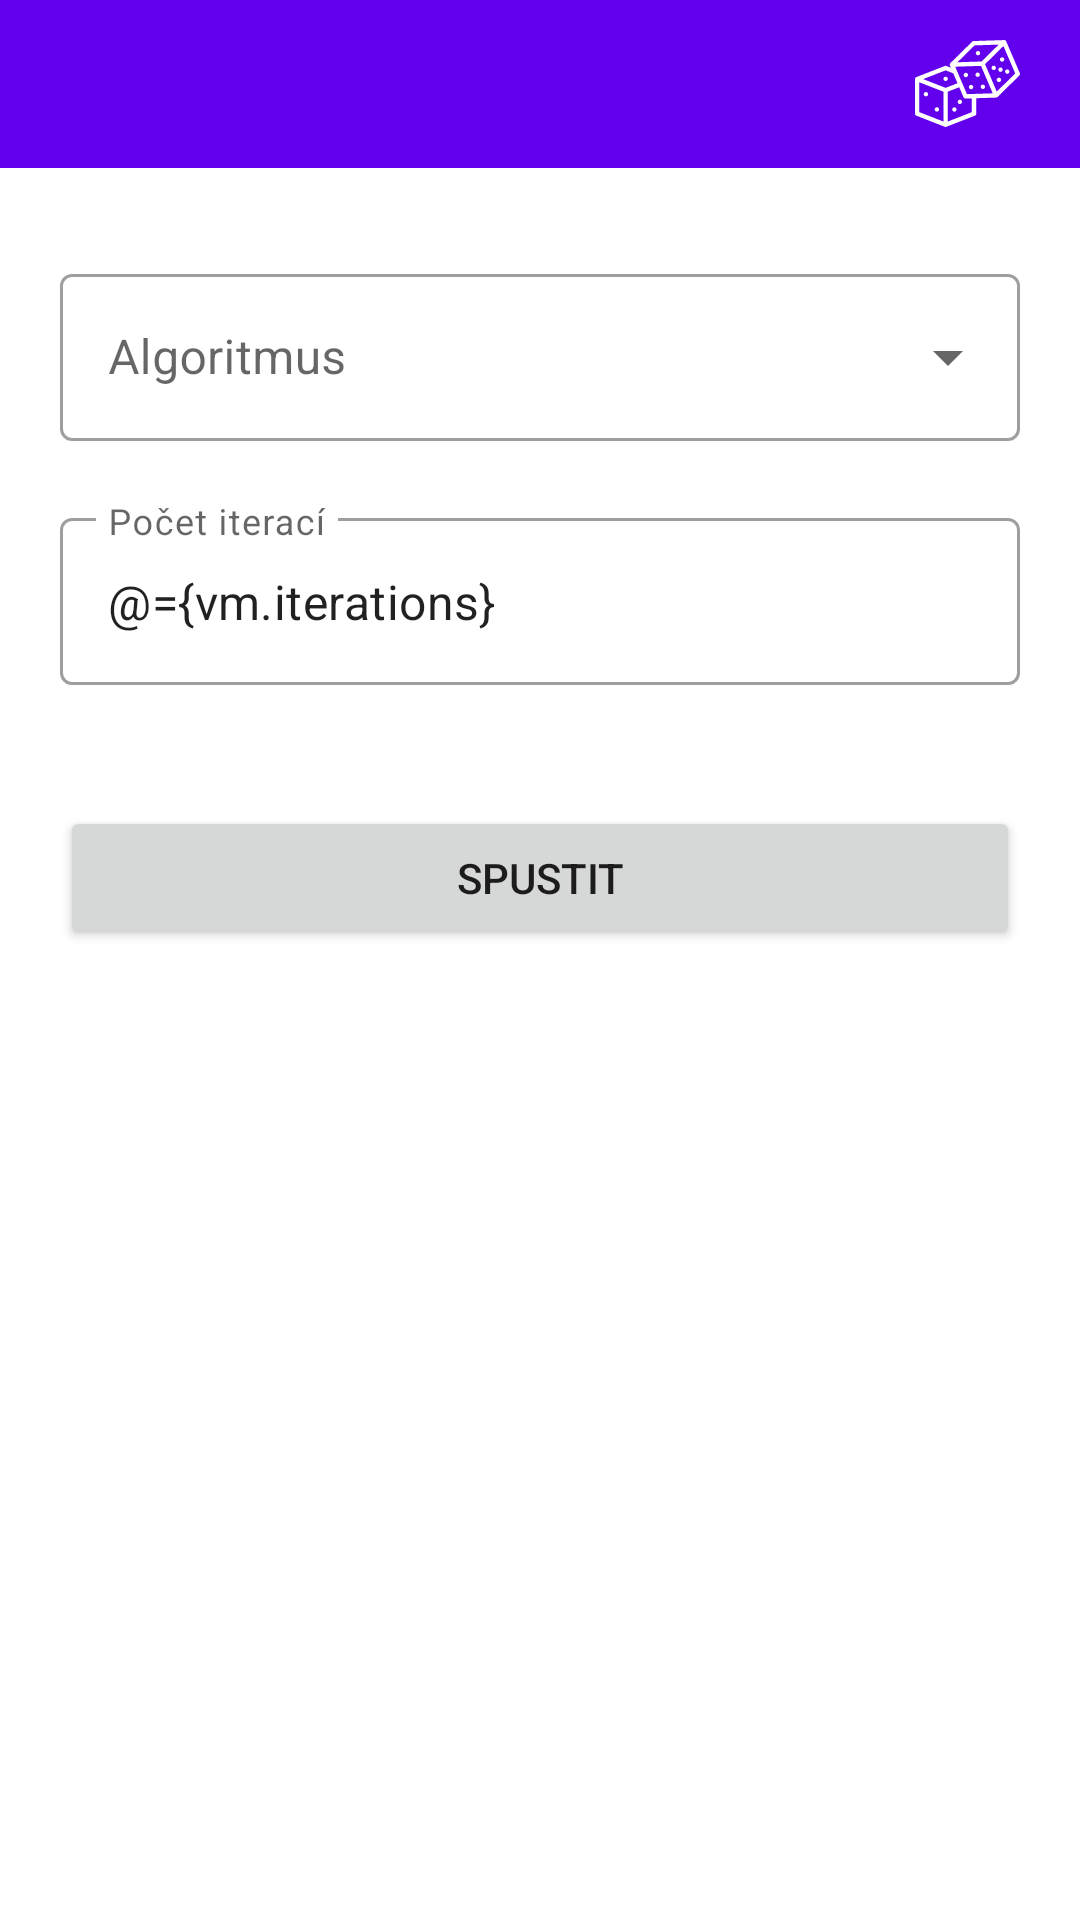

Icon bounding boxes for this 1080x1920 phone screenshot, format (x1, y1, x2, y2):
dices: (915, 40, 1020, 127)
